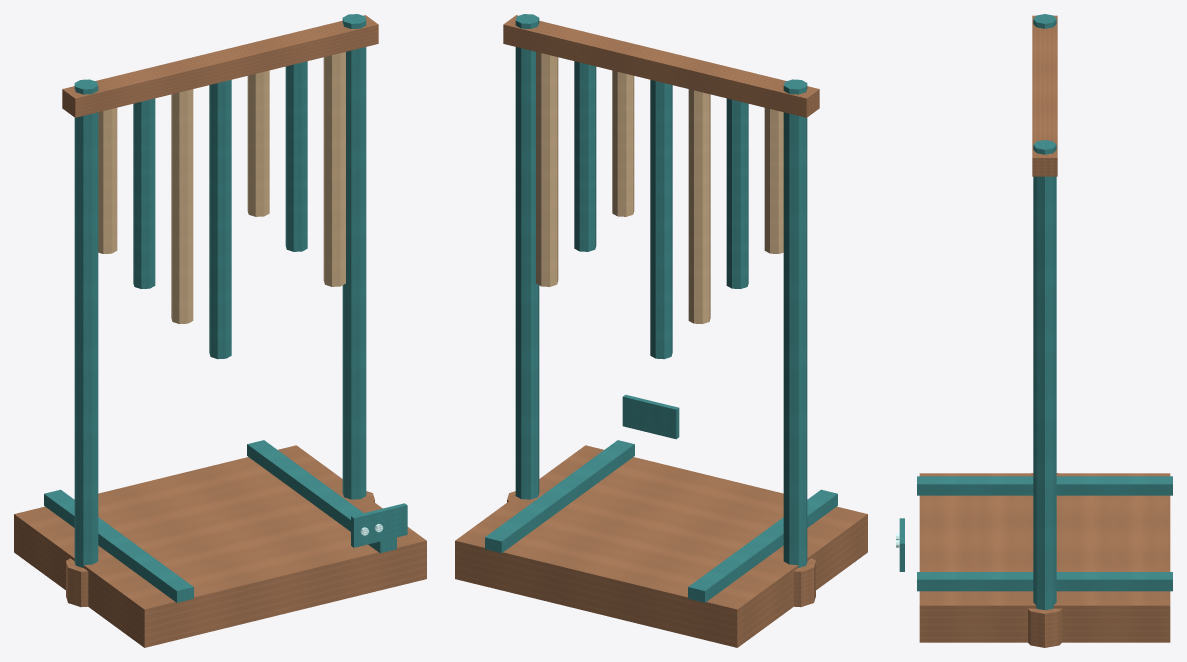
The model's file is atlas100-s099-a01.glb.
3 views of the same model, side by side, from view 1: azimuth 30°, elevation 25°; view 2: azimuth 150°, elevation 25°; view 3: azimuth 270°, elevation 25° (orthographic). The views are drawn at different scales.
Parts seen in each view (by area): view 1: atlas100-s099-a01:part-000, atlas100-s099-a01:part-003, atlas100-s099-a01:part-005, atlas100-s099-a01:part-007, atlas100-s099-a01:part-011, atlas100-s099-a01:part-010, atlas100-s099-a01:part-014, atlas100-s099-a01:part-009, atlas100-s099-a01:part-013, atlas100-s099-a01:part-001, atlas100-s099-a01:part-012, atlas100-s099-a01:part-002 (+3 smaller); view 2: atlas100-s099-a01:part-000, atlas100-s099-a01:part-003, atlas100-s099-a01:part-005, atlas100-s099-a01:part-007, atlas100-s099-a01:part-011, atlas100-s099-a01:part-010, atlas100-s099-a01:part-014, atlas100-s099-a01:part-009, atlas100-s099-a01:part-013, atlas100-s099-a01:part-002, atlas100-s099-a01:part-001, atlas100-s099-a01:part-012 (+3 smaller); view 3: atlas100-s099-a01:part-000, atlas100-s099-a01:part-005, atlas100-s099-a01:part-001, atlas100-s099-a01:part-002, atlas100-s099-a01:part-007, atlas100-s099-a01:part-006.
Boxes of the visible parts, bbox=[...] form: atlas100-s099-a01:part-000: bbox=[14, 445, 426, 647]; atlas100-s099-a01:part-003: bbox=[74, 79, 98, 567]; atlas100-s099-a01:part-005: bbox=[342, 14, 366, 499]; atlas100-s099-a01:part-007: bbox=[62, 15, 378, 117]; atlas100-s099-a01:part-011: bbox=[209, 80, 231, 359]; atlas100-s099-a01:part-010: bbox=[171, 89, 193, 324]; atlas100-s099-a01:part-014: bbox=[323, 52, 345, 286]; atlas100-s099-a01:part-009: bbox=[133, 98, 155, 288]; atlas100-s099-a01:part-013: bbox=[285, 61, 307, 251]; atlas100-s099-a01:part-001: bbox=[44, 489, 193, 602]; atlas100-s099-a01:part-012: bbox=[247, 70, 269, 216]; atlas100-s099-a01:part-002: bbox=[247, 440, 396, 553]; atlas100-s099-a01:part-000: bbox=[455, 445, 867, 647]; atlas100-s099-a01:part-003: bbox=[783, 79, 807, 567]; atlas100-s099-a01:part-005: bbox=[515, 14, 539, 499]; atlas100-s099-a01:part-007: bbox=[503, 15, 819, 117]; atlas100-s099-a01:part-011: bbox=[650, 80, 672, 359]; atlas100-s099-a01:part-010: bbox=[688, 89, 710, 324]; atlas100-s099-a01:part-014: bbox=[536, 52, 558, 286]; atlas100-s099-a01:part-009: bbox=[726, 98, 748, 288]; atlas100-s099-a01:part-013: bbox=[574, 61, 596, 251]; atlas100-s099-a01:part-002: bbox=[485, 440, 634, 553]; atlas100-s099-a01:part-001: bbox=[688, 489, 837, 602]; atlas100-s099-a01:part-012: bbox=[612, 70, 634, 216]; atlas100-s099-a01:part-000: bbox=[919, 473, 1170, 642]; atlas100-s099-a01:part-005: bbox=[1033, 140, 1056, 609]; atlas100-s099-a01:part-001: bbox=[917, 476, 1172, 495]; atlas100-s099-a01:part-002: bbox=[917, 572, 1172, 591]; atlas100-s099-a01:part-007: bbox=[1032, 15, 1057, 176]; atlas100-s099-a01:part-006: bbox=[1028, 608, 1061, 647].
Size of the model in its own units: 2.16 by 3.48 by 1.77.
Materials: 4 (4 with a texture image).
